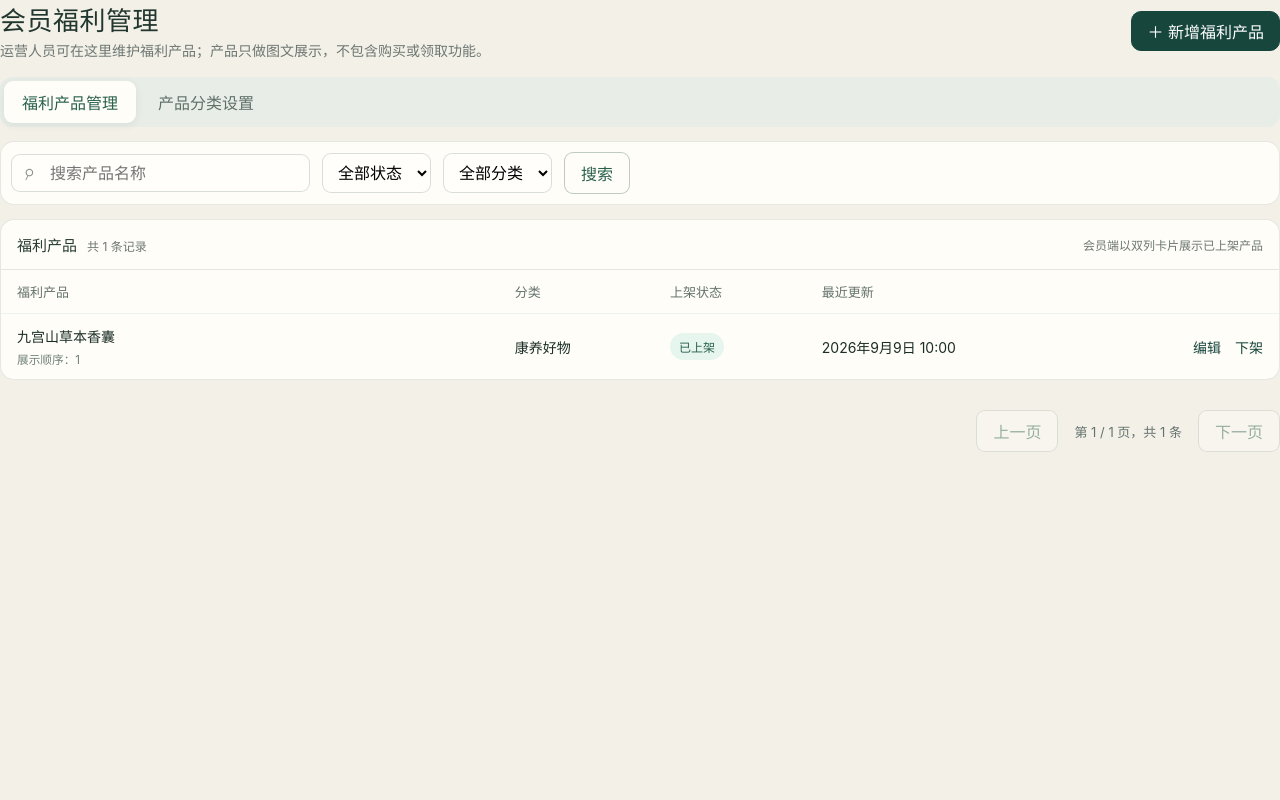
Scenario: ProductPage › separates product operations from optional category settings
This screenshot has width=1280, height=800.
Expected: the text "九宫山草本香囊" is shown, [17, 326, 115, 346]
What coordinates should you click on to do the following:
click the button "＋ 新增福利产品"
I would click on:
 (1206, 31)
Its box is [1132, 11, 1279, 51].
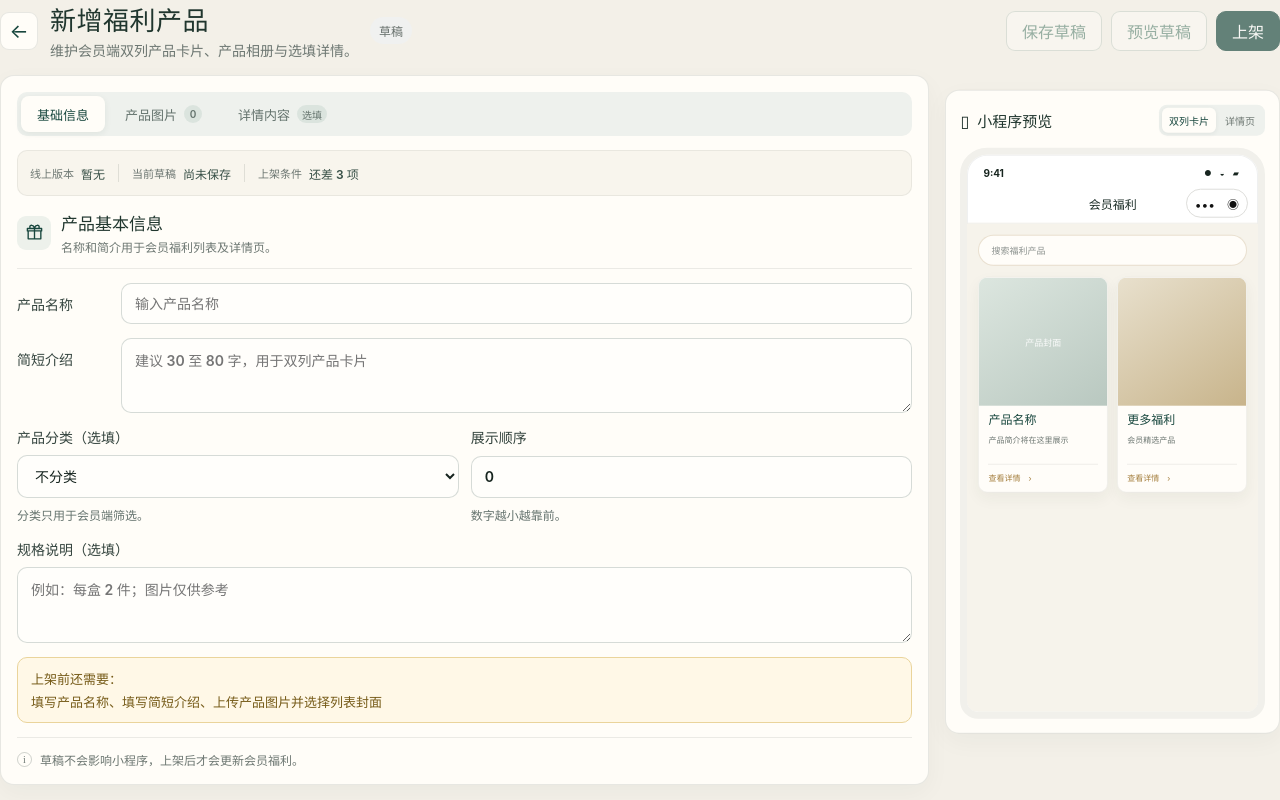
Expected: the button "双列卡片" is shown, [1162, 108, 1216, 133]
Expected: the tab "基础信息" is shown, [21, 96, 105, 132]
Expected: the text "维护会员端双列产品卡片、产品相册与选填详情。" is shown, [50, 41, 358, 61]
What coordinates should you click on to do the following:
click the tab "详情内容 选填"
I would click on:
 (282, 114)
Its box is [222, 96, 343, 132].
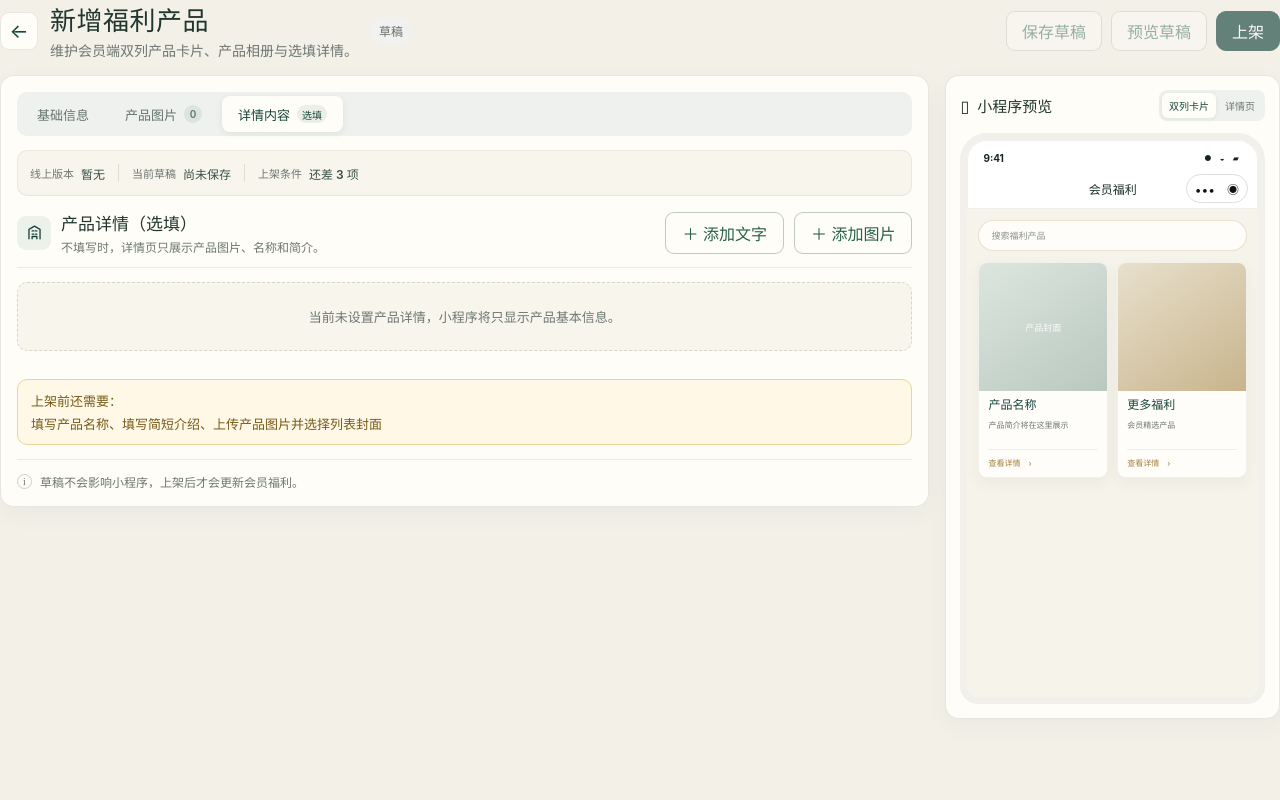
Expected: the text "当前未设置产品详情，小程序将只显示产品基本信息。" is shown, [17, 282, 912, 351]
What coordinates should you click on to do the following:
click the button named "返回产品列表"
I would click on:
 (19, 31)
Its box is [0, 12, 38, 50].
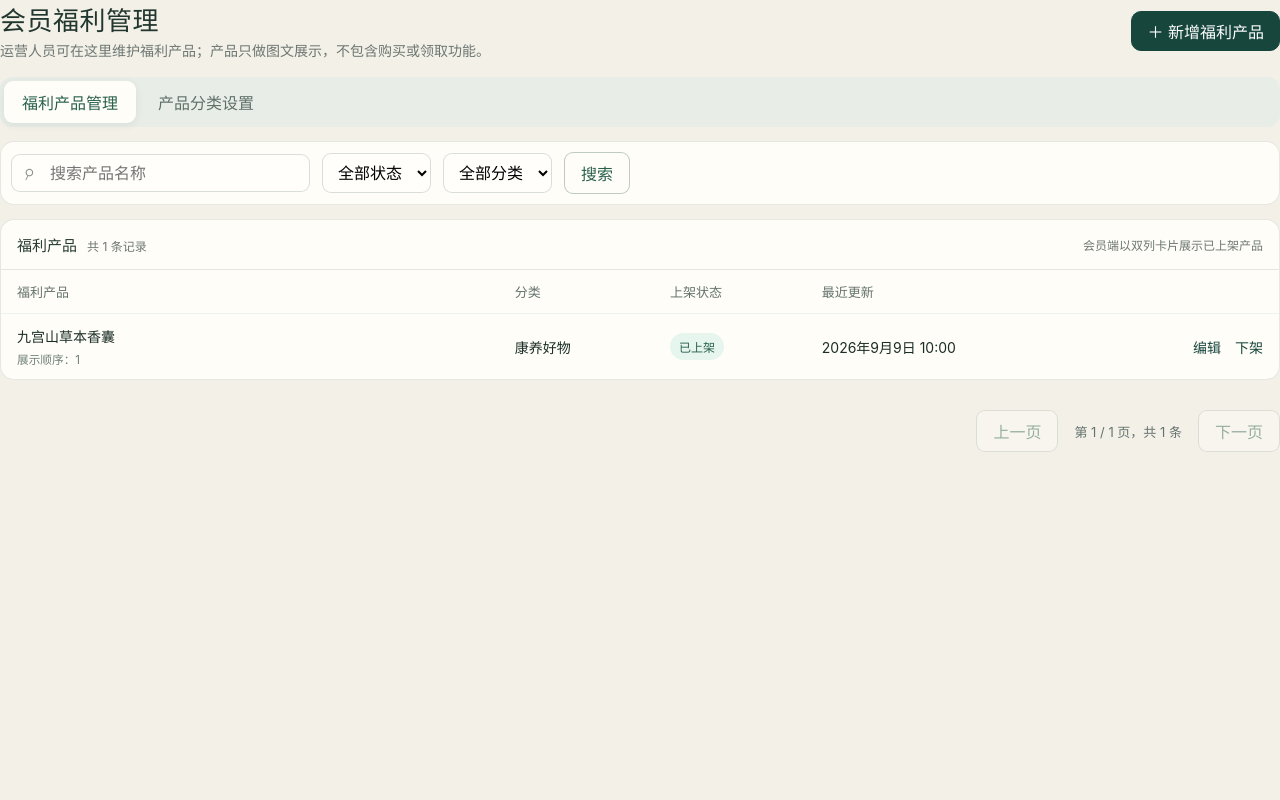
What coordinates should you click on to do the following:
click the tab "产品分类设置"
I would click on:
 (206, 102)
Its box is [140, 81, 272, 123].
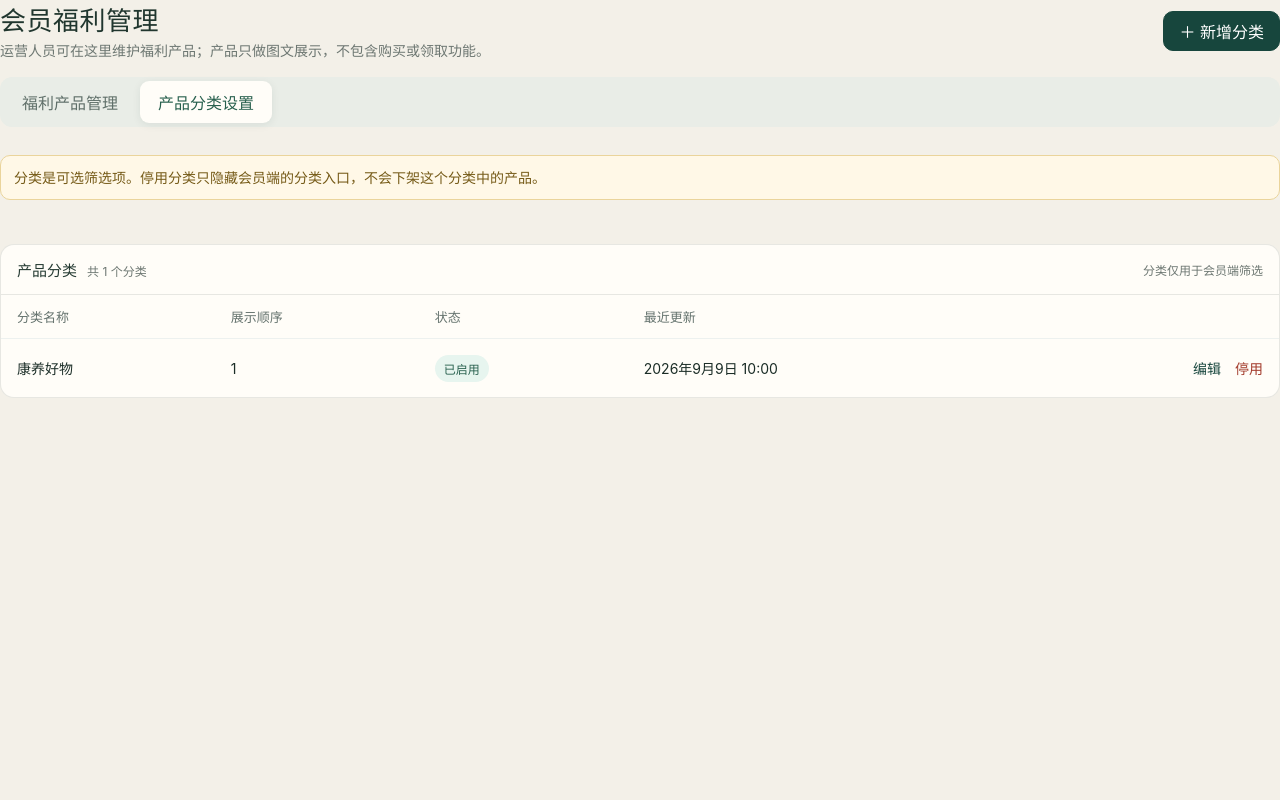
Expected: the text "分类是可选筛选项。停用分类只隐藏会员端的分类入口，不会下架这个分类中的产品。" is shown, [0, 155, 1279, 200]
Expected: the button "＋ 新增分类" is shown, [1164, 11, 1279, 51]
Expected: the text "康养好物" is shown, [17, 360, 73, 377]
